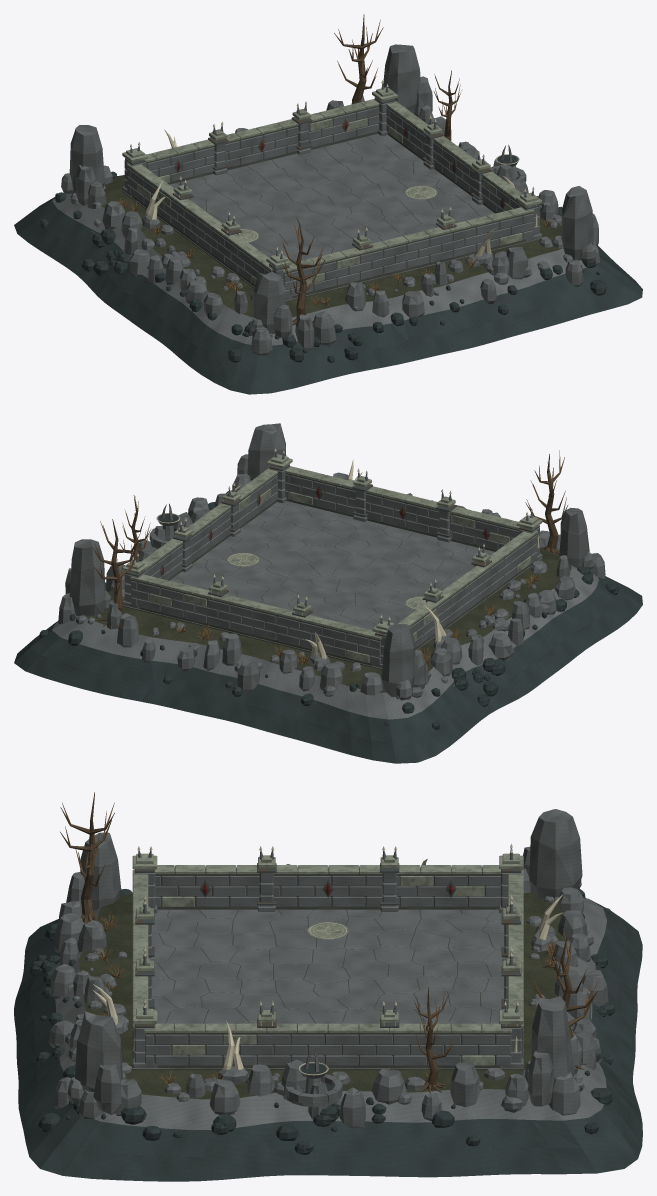
Rendered from realm_10.fbx.
3 views of the same model, one above another, from view 1: azimuth 30°, elevation 25°; view 2: azimuth 150°, elevation 25°; view 3: azimuth 270°, elevation 25° (orthographic). The views are drawn at different scales.
Parts seen in each view (by area): view 1: realm_10__shore, realm_10__closed_walls, realm_10__combat_floor, realm_10__biome_dressing; view 2: realm_10__shore, realm_10__closed_walls, realm_10__combat_floor, realm_10__biome_dressing; view 3: realm_10__shore, realm_10__closed_walls, realm_10__combat_floor, realm_10__biome_dressing.
Part boxes in pixels (box(x1,y1,x2,y2)): realm_10__shore: box(14, 95, 642, 394); realm_10__closed_walls: box(122, 80, 542, 300); realm_10__combat_floor: box(122, 134, 540, 301); realm_10__biome_dressing: box(61, 14, 599, 338); realm_10__shore: box(14, 472, 642, 763); realm_10__closed_walls: box(122, 448, 542, 668); realm_10__combat_floor: box(123, 501, 542, 669); realm_10__biome_dressing: box(65, 423, 593, 700); realm_10__shore: box(14, 864, 642, 1181); realm_10__closed_walls: box(132, 843, 523, 1068); realm_10__combat_floor: box(132, 909, 523, 1070); realm_10__biome_dressing: box(60, 792, 598, 1119).
Size of the model in its own units: 112739 by 112590 by 37643.
